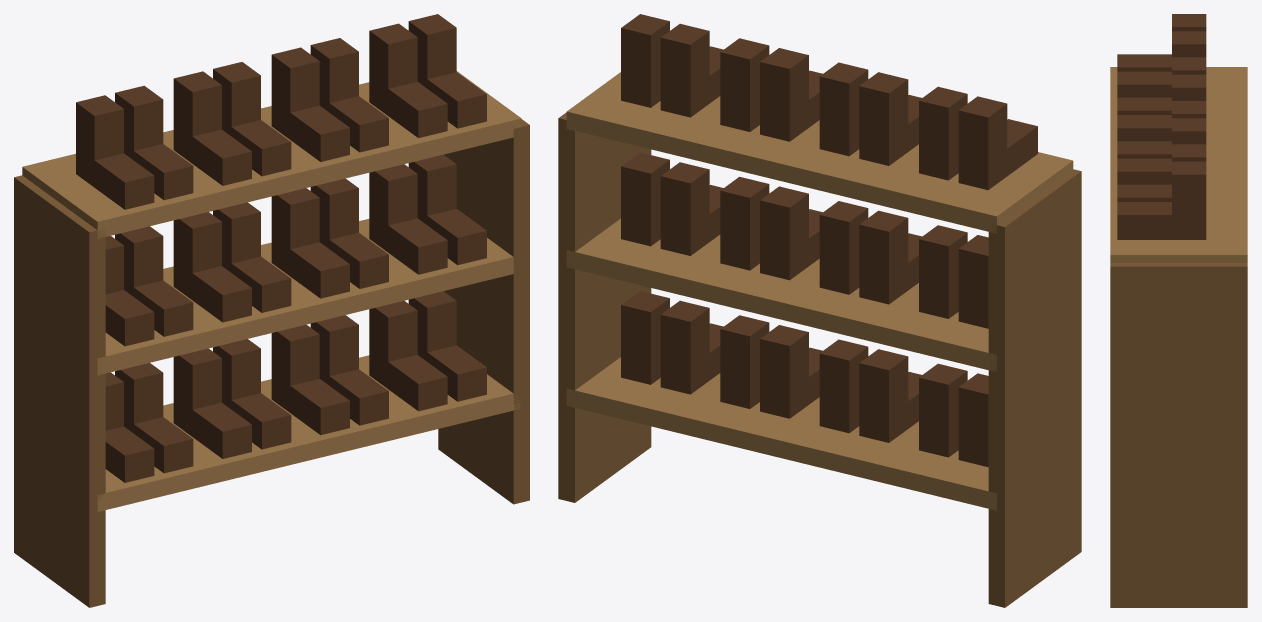
The model's file is pile_shoes_3.glb.
3 views of the same model, side by side, from view 1: azimuth 30°, elevation 25°; view 2: azimuth 150°, elevation 25°; view 3: azimuth 270°, elevation 25° (orthographic). The views are drawn at different scales.
Parts seen in each view (by area): view 1: pile_shoes_3; view 2: pile_shoes_3; view 3: pile_shoes_3.
Part boxes in pixels (left/top/right/bottom): pile_shoes_3: left=14, top=14, right=529, bottom=607; pile_shoes_3: left=558, top=14, right=1081, bottom=607; pile_shoes_3: left=1110, top=14, right=1247, bottom=607.
Size of the model in its own units: 1.35 by 1.34 by 0.4.
